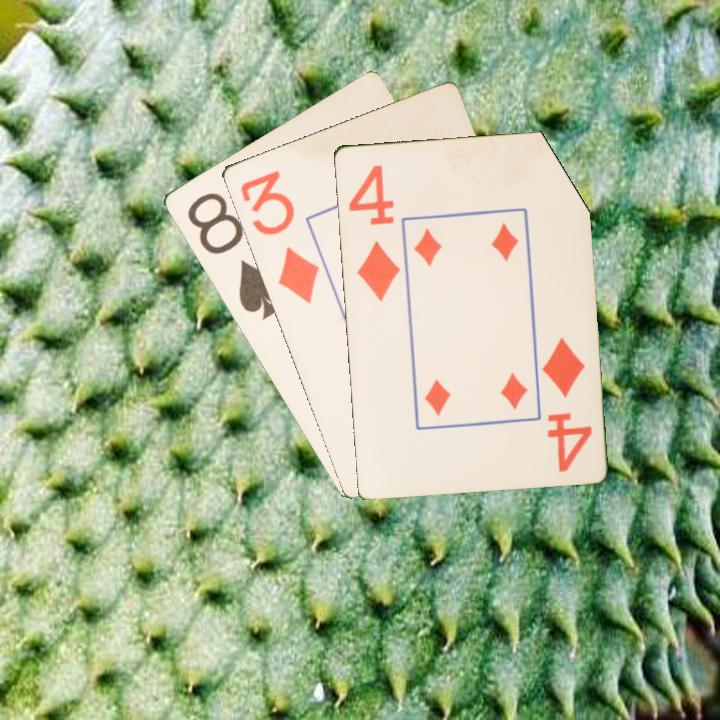3d: (236, 166, 322, 307)
4d: (345, 160, 403, 304), (538, 333, 595, 474)
8s: (183, 188, 285, 322)
